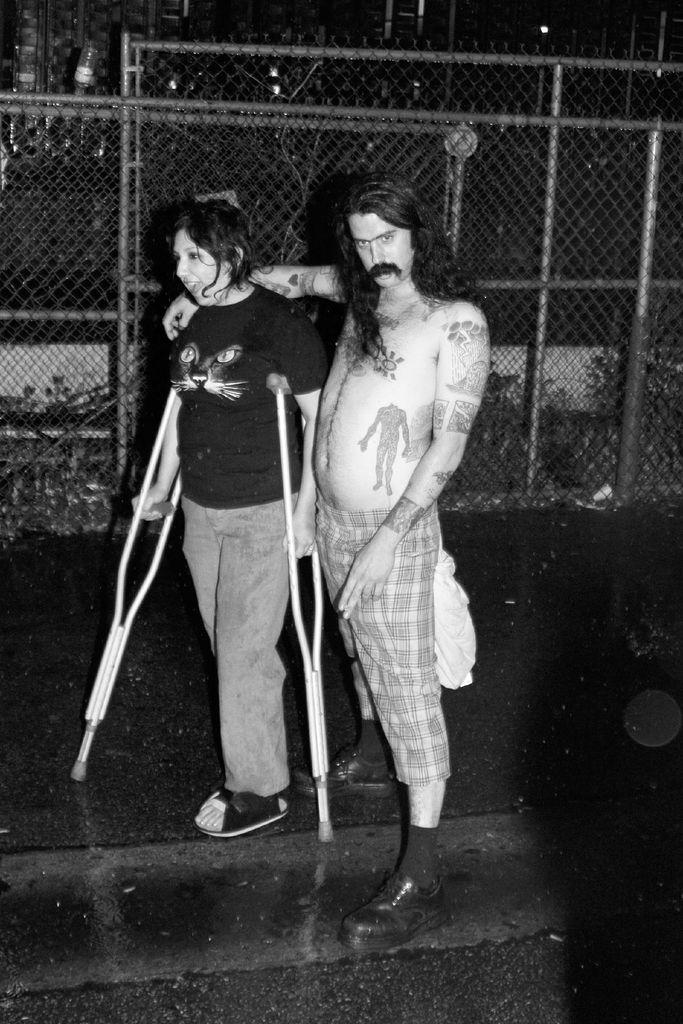crutches: (66, 190, 346, 863)
